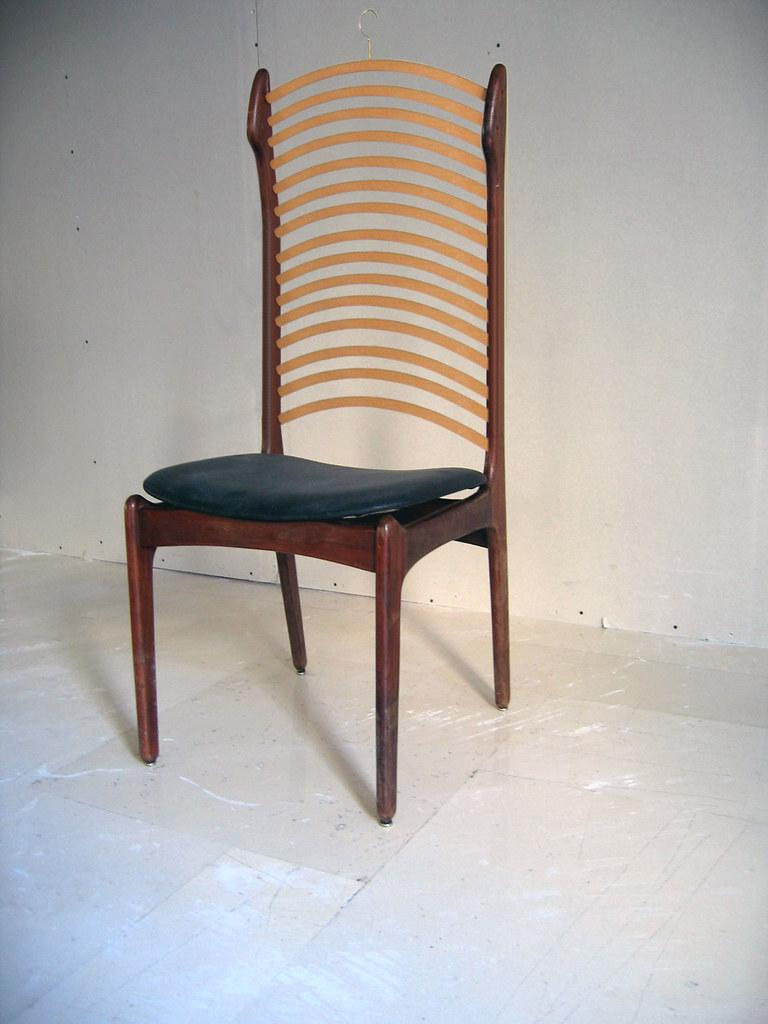chair: (124, 58, 513, 827)
